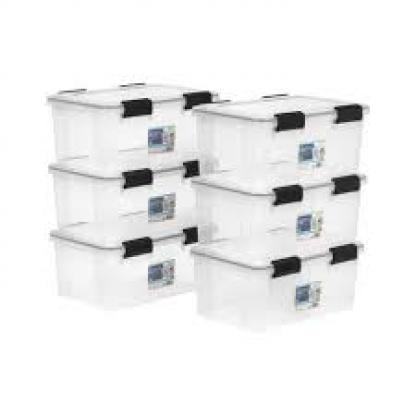plastic_box: (192, 85, 374, 194), (44, 72, 222, 179)
